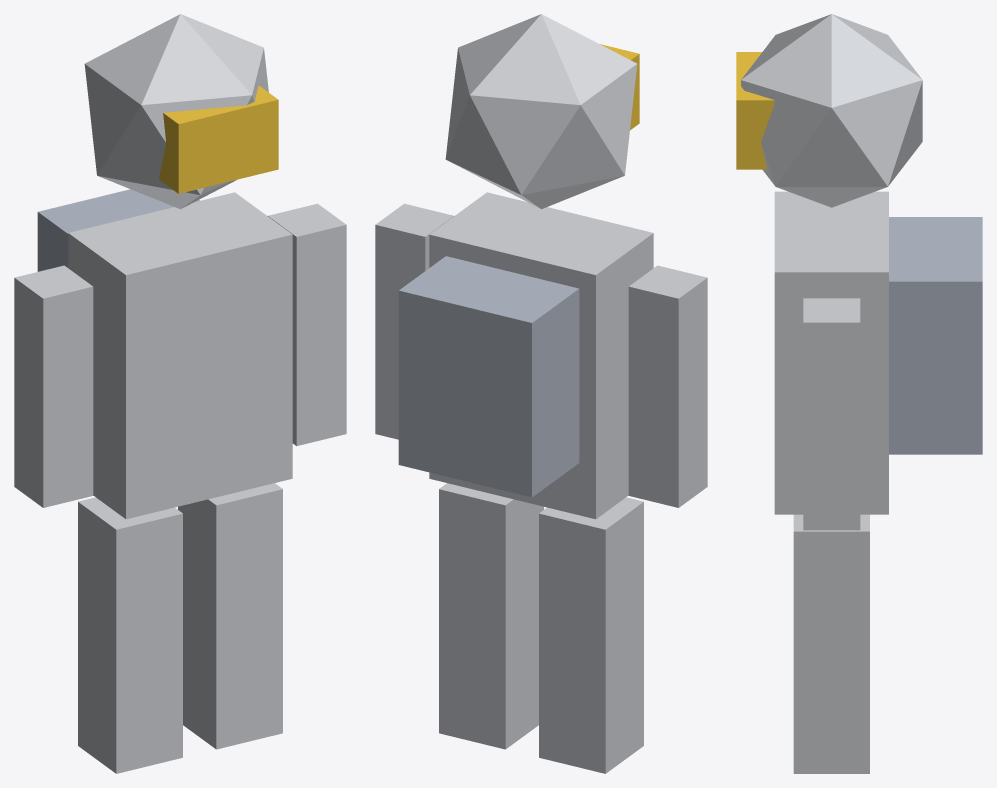
Rendered from lunar-astronaut.glb.
The picture shows the model from 3 angles, left to right: view 1: azimuth 30°, elevation 25°; view 2: azimuth 150°, elevation 25°; view 3: azimuth 270°, elevation 25°; orthographic projection.
Parts seen in each view (by area): view 1: astronaut; view 2: astronaut; view 3: astronaut.
Boxes of the visible parts, x1,y1,x2,y2 form: astronaut: (14, 14, 346, 773); astronaut: (375, 14, 707, 773); astronaut: (736, 14, 982, 773).
Size of the model in its own units: 0.91 by 2.08 by 0.645.
